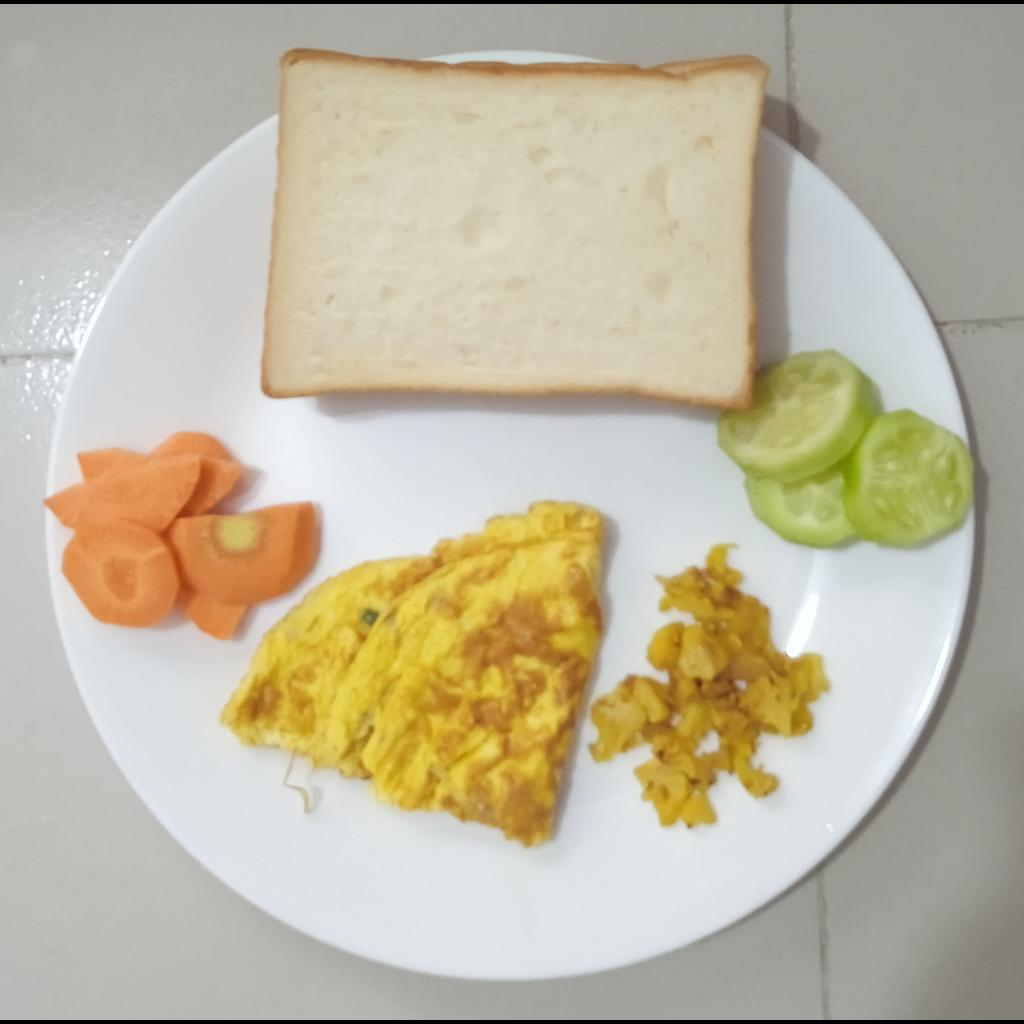bread: (260, 47, 768, 411)
carrot: (45, 434, 314, 641)
cauliflower: (589, 543, 829, 829)
cucumber: (716, 349, 977, 550)
egg-poached: (219, 505, 604, 845)
